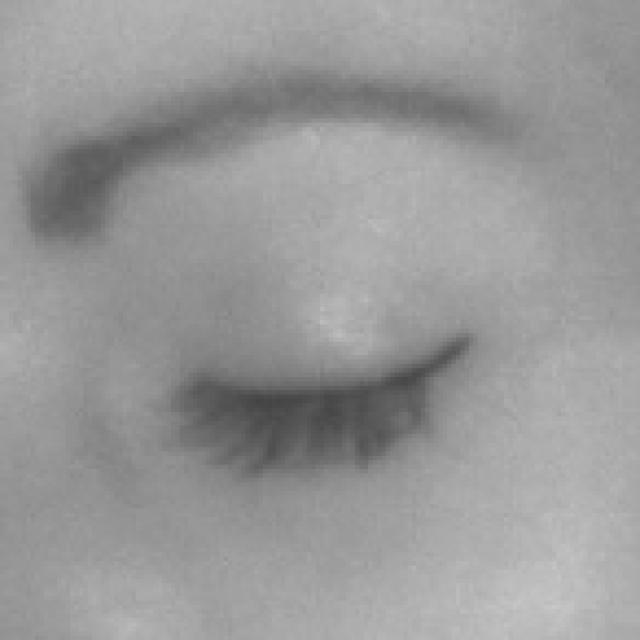close: (0, 39, 579, 566)
